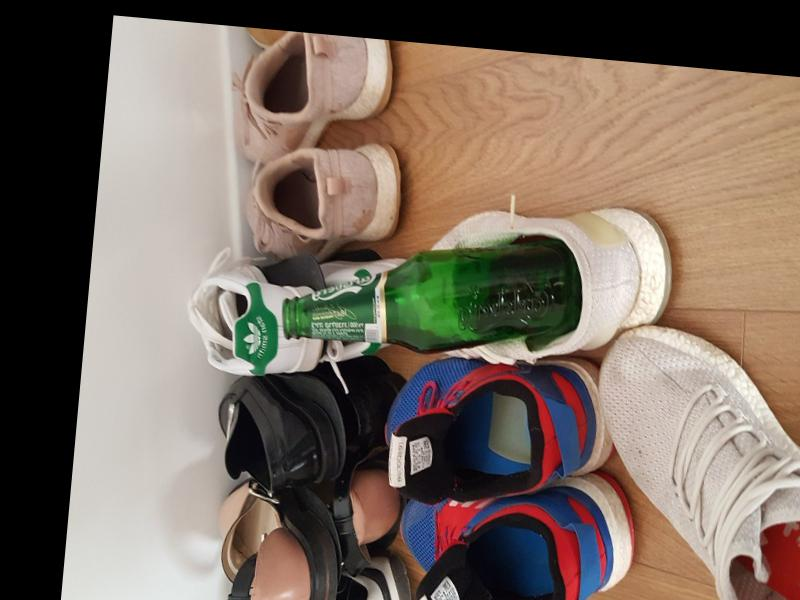Beer: (282, 216, 586, 368)
